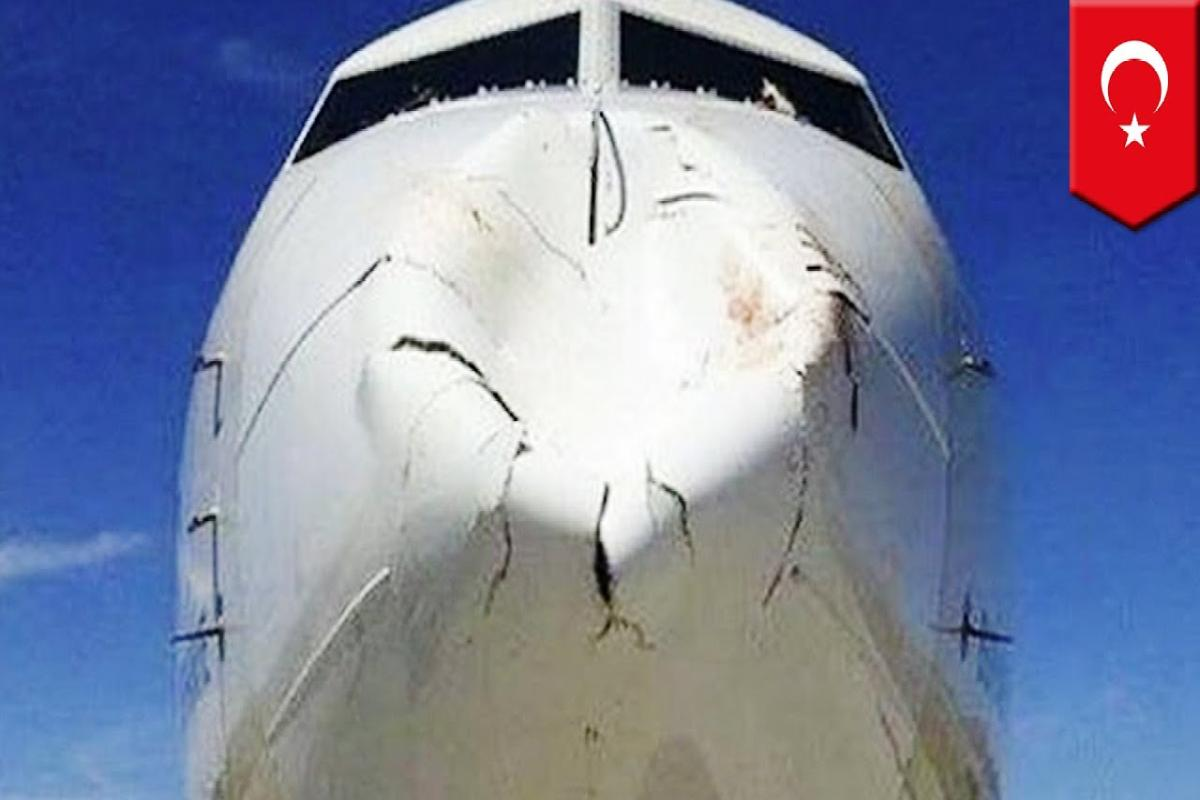Fuselage_damage: (336, 89, 917, 659)
